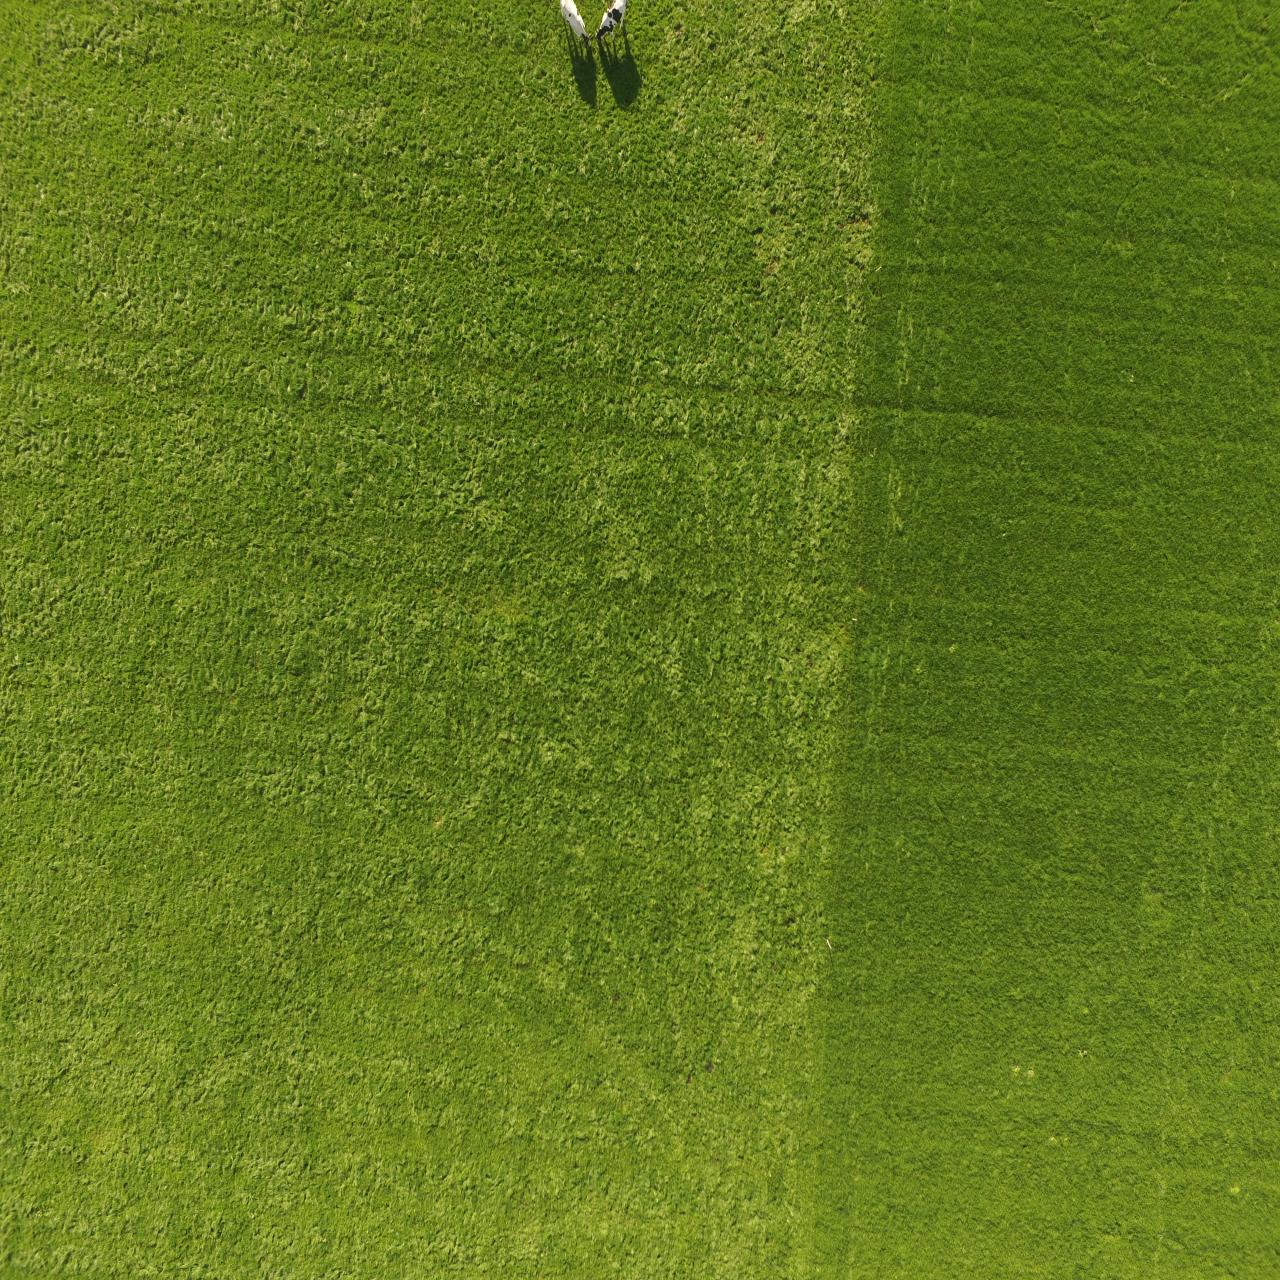cow: (556, 0, 593, 49), (595, 0, 631, 43)
